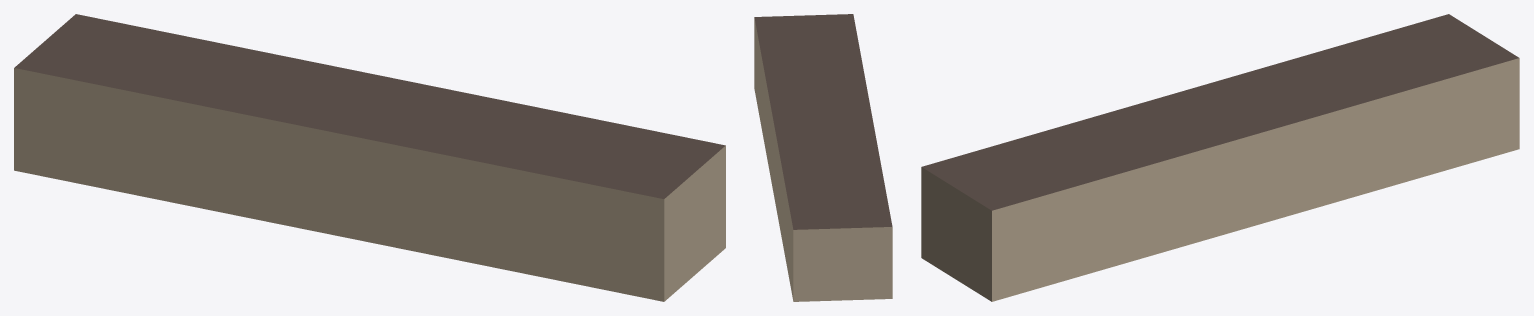
The picture shows the model from 3 angles, left to right: view 1: azimuth 30°, elevation 25°; view 2: azimuth 150°, elevation 25°; view 3: azimuth 270°, elevation 25°; orthographic projection. The views are drawn at different scales.
Visible parts, largest first — view 1: HP-w1286966238; view 2: HP-w1286966238; view 3: HP-w1286966238.
Part boxes in pixels (<box>): HP-w1286966238: <box>14,14,725,301</box>; HP-w1286966238: <box>754,14,892,301</box>; HP-w1286966238: <box>921,14,1519,301</box>.
Size of the model in its own units: 41.65 by 9 by 53.5.
